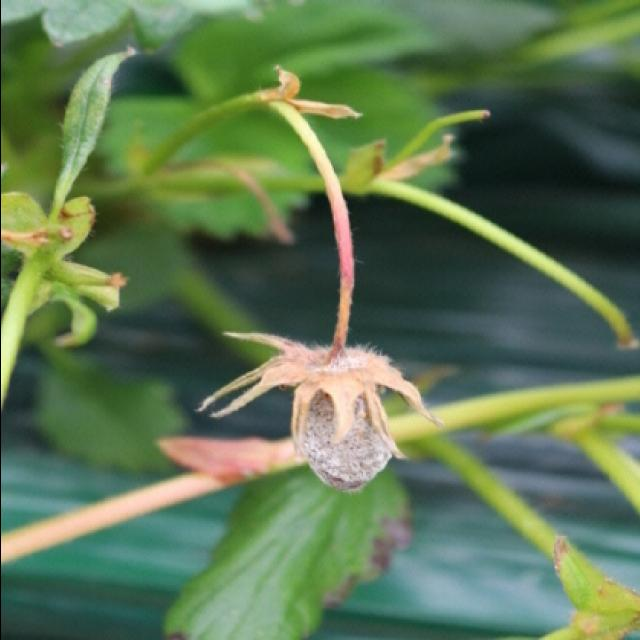Gray Mold: (194, 318, 439, 493)
